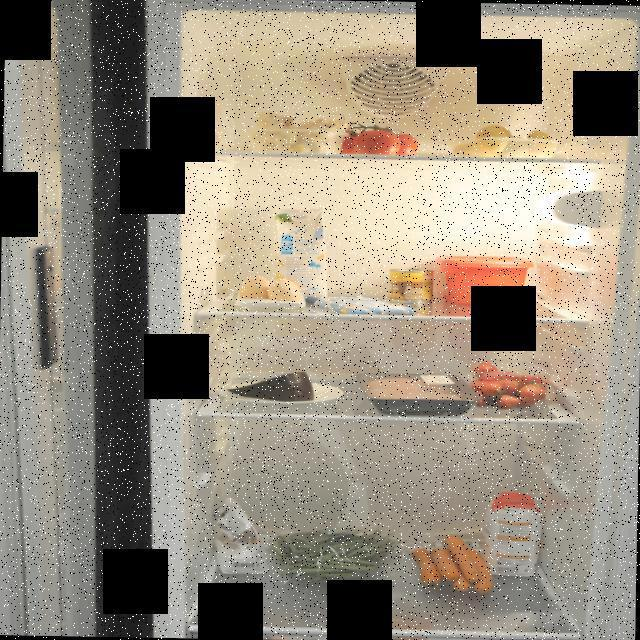butter: (434, 255, 534, 308)
carrot: (410, 532, 490, 596)
cheese: (227, 367, 320, 404)
chicken_breast: (364, 374, 468, 410)
chocolate: (316, 294, 422, 315)
corn: (389, 267, 434, 306)
eggs: (234, 273, 302, 306)
flour: (202, 502, 264, 579)
green_beans: (266, 525, 400, 586)
milk: (271, 206, 324, 303)
mushrooms: (246, 109, 352, 154)
potato: (462, 123, 555, 159)
strawberries: (467, 358, 551, 412)
sugar: (481, 489, 544, 579)
tomato: (338, 120, 422, 156)
